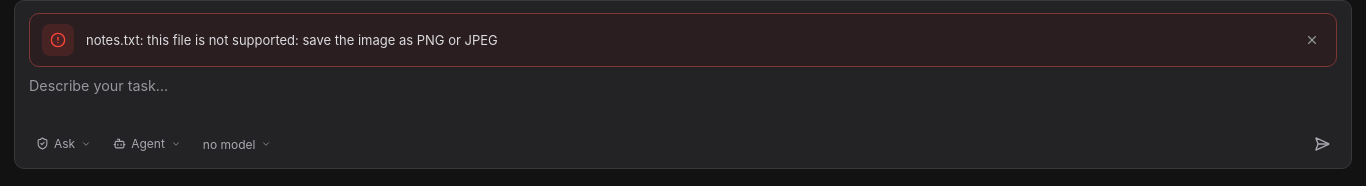
attaching a picture › a dropped file that is not a picture is refused by name
Check: the message reads "notes.txt: this file is not supported: save the image as PNG or JPEG", box [86, 32, 498, 48]
Said until closed: a refusal the user has read need not stay over the box.
Click the button named "Close": {"x": 1312, "y": 40} [1298, 26, 1326, 54]
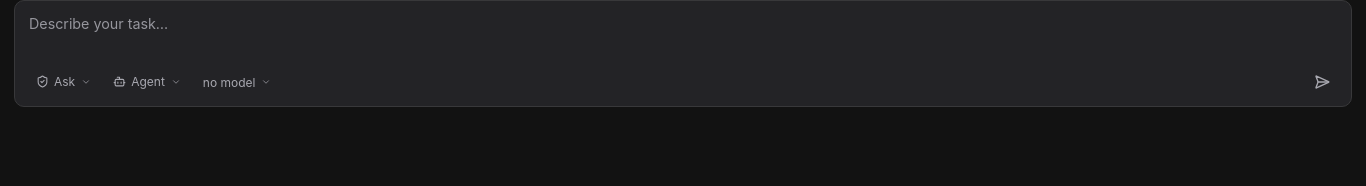
Check: the message "notes.txt: this file is not supported: save the image as PNG or JPEG" is gone
